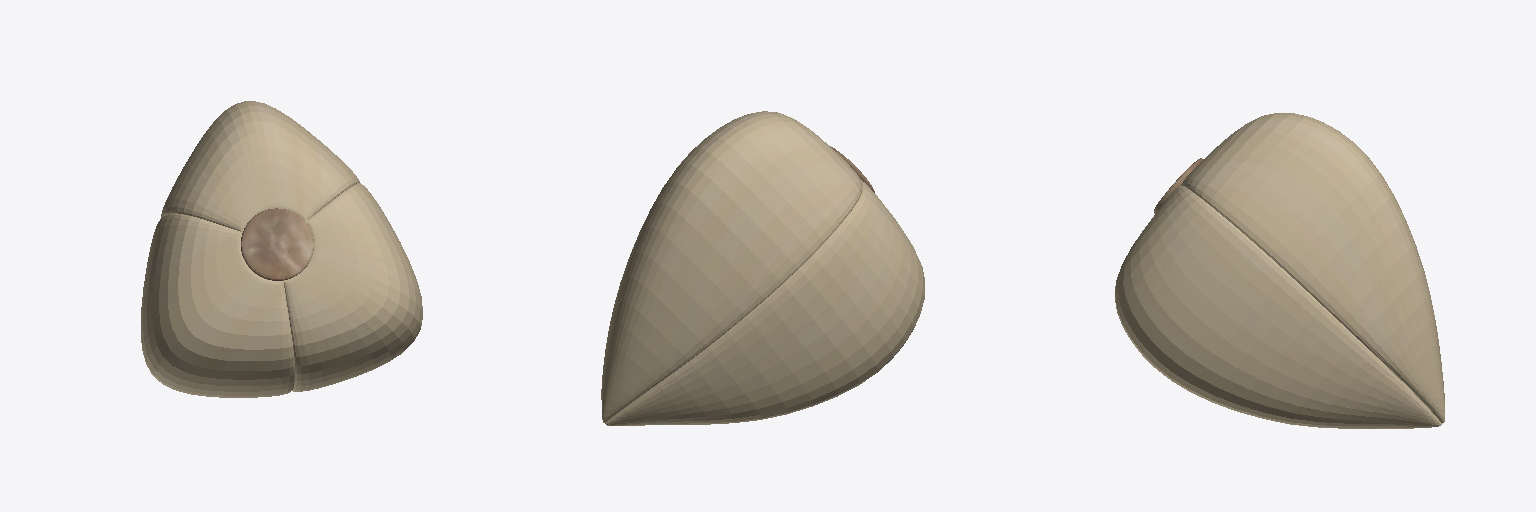
3 renders of one model, left to right at view 1: azimuth 30°, elevation 25°; view 2: azimuth 150°, elevation 25°; view 3: azimuth 270°, elevation 25°, orthographic.
Visible parts, largest first — view 1: GrainBuckwheat017; view 2: GrainBuckwheat017; view 3: GrainBuckwheat017.
Boxes of the visible parts, x1=… form: GrainBuckwheat017: x1=141, y1=101, x2=422, y2=397; GrainBuckwheat017: x1=601, y1=111, x2=924, y2=425; GrainBuckwheat017: x1=1115, y1=113, x2=1444, y2=428.
Bounding box in the file's own units: 0.0255 × 0.0275 × 0.0293.
1 materials, 1 textured.